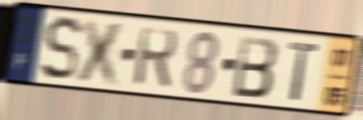8: (183, 28, 221, 97)
B: (231, 33, 280, 101)
R: (131, 25, 180, 92)
S: (39, 14, 84, 84)
T: (287, 39, 322, 104)
X: (72, 16, 130, 89)
